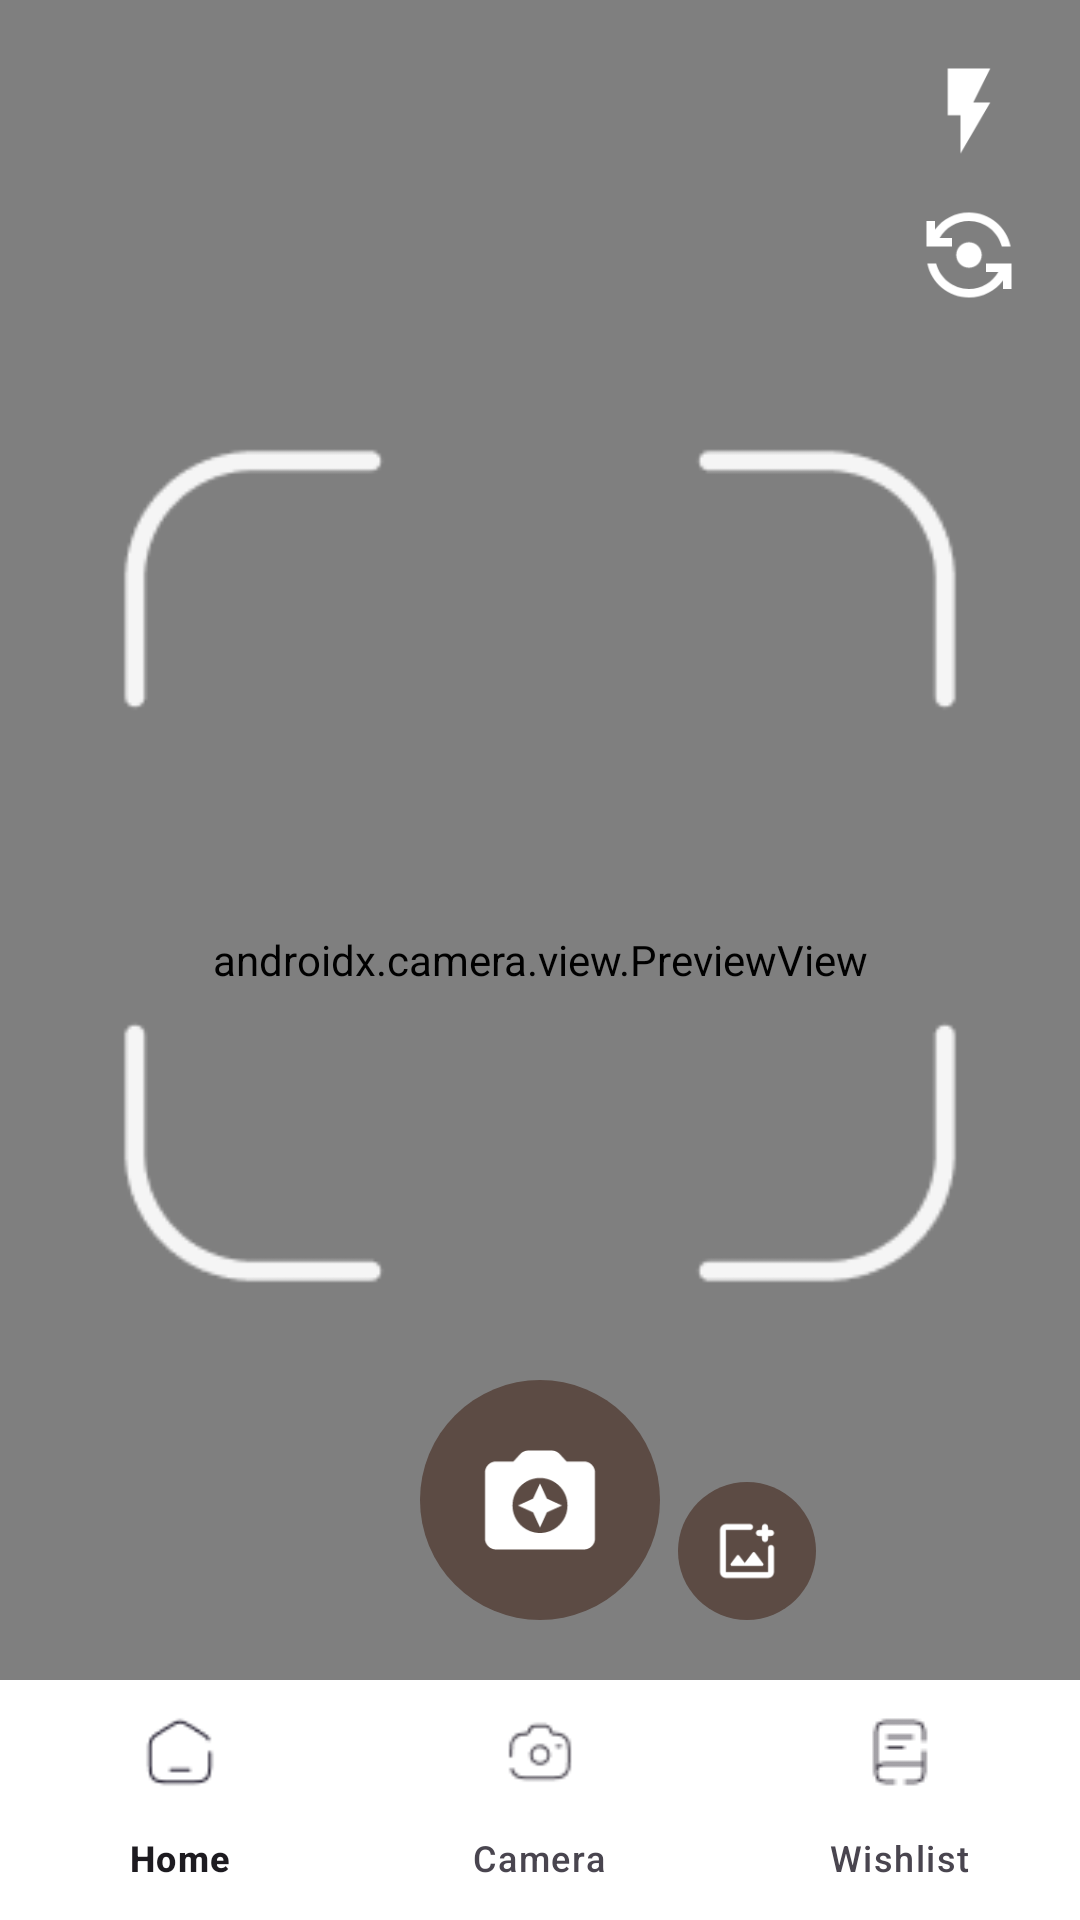

Point at icon controls on the screen. Image size 1080x1920, points as [x,y].
flash on: [968,110]
flip camera: [969,255]
gallery: [747,1551]
